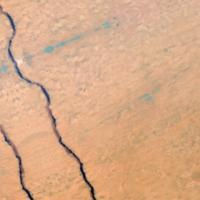crack: (0, 2, 96, 199)
